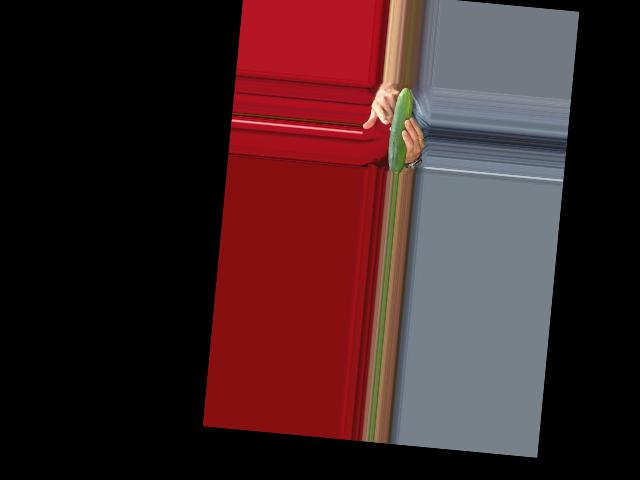cucumber: (386, 87, 414, 174)
